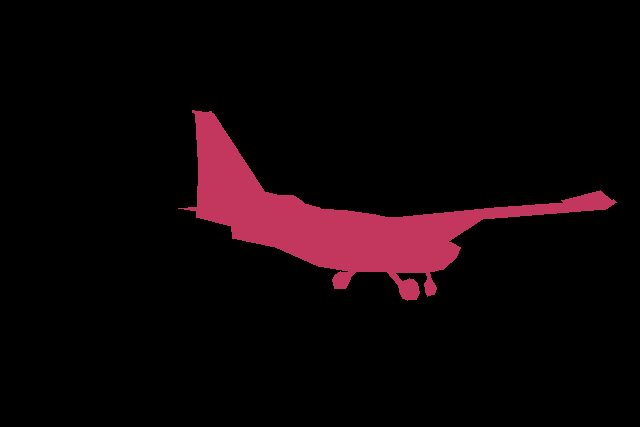Airplane: (178, 110, 617, 301)
